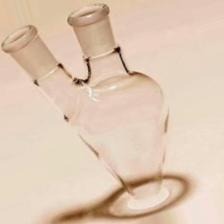Pear shaped flask: (4, 5, 171, 206)
